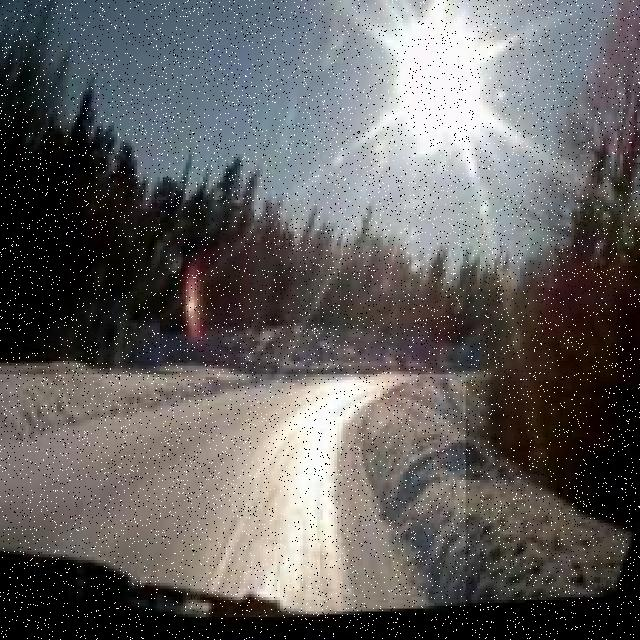ice-road: (0, 375, 466, 617)
